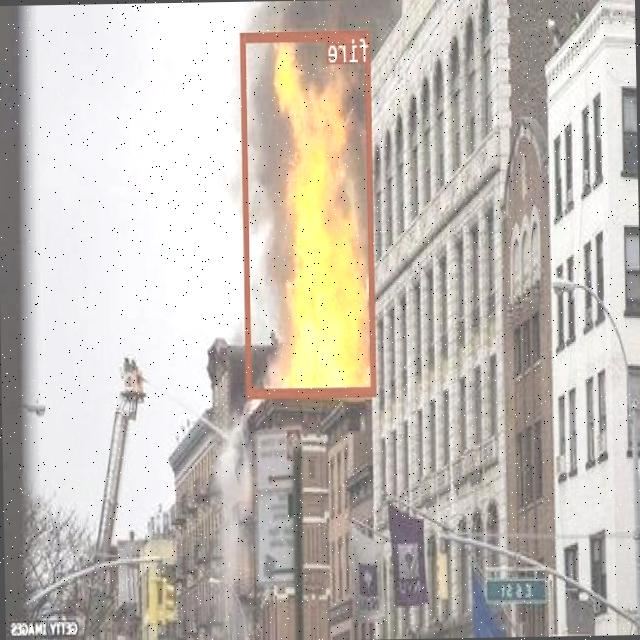fire: (241, 30, 376, 395)
